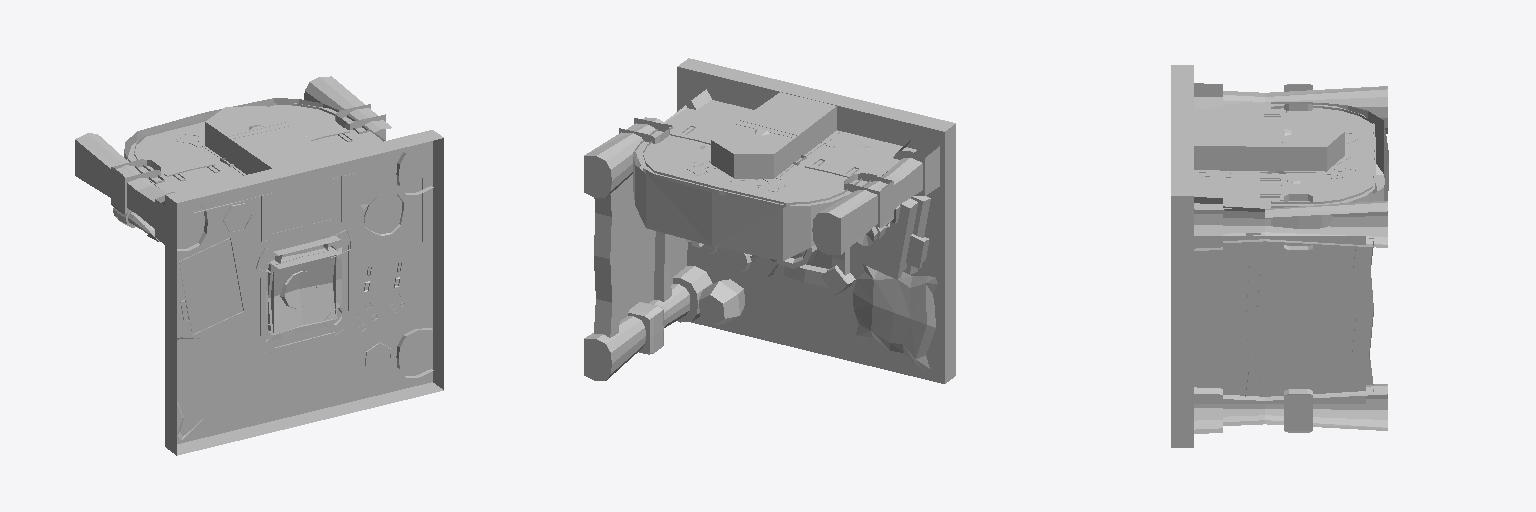
File: viking_room.obj
The picture shows the model from 3 angles: view 1: azimuth 30°, elevation 25°; view 2: azimuth 150°, elevation 25°; view 3: azimuth 270°, elevation 25°; orthographic projection.
Visible parts, largest first — view 1: mesh_all1_Texture1_0; view 2: mesh_all1_Texture1_0; view 3: mesh_all1_Texture1_0.
Part boxes in pixels (left/top/right/bottom): mesh_all1_Texture1_0: left=75, top=76, right=443, bottom=455; mesh_all1_Texture1_0: left=584, top=58, right=955, bottom=383; mesh_all1_Texture1_0: left=1171, top=65, right=1388, bottom=447.
Size of the model in its own units: 1.46 by 1.33 by 1.03.